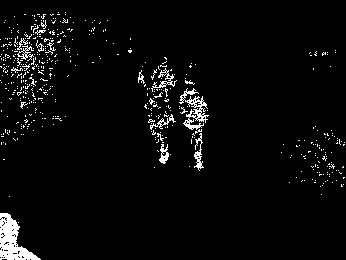person: (184, 79, 212, 174), (146, 87, 179, 166)
